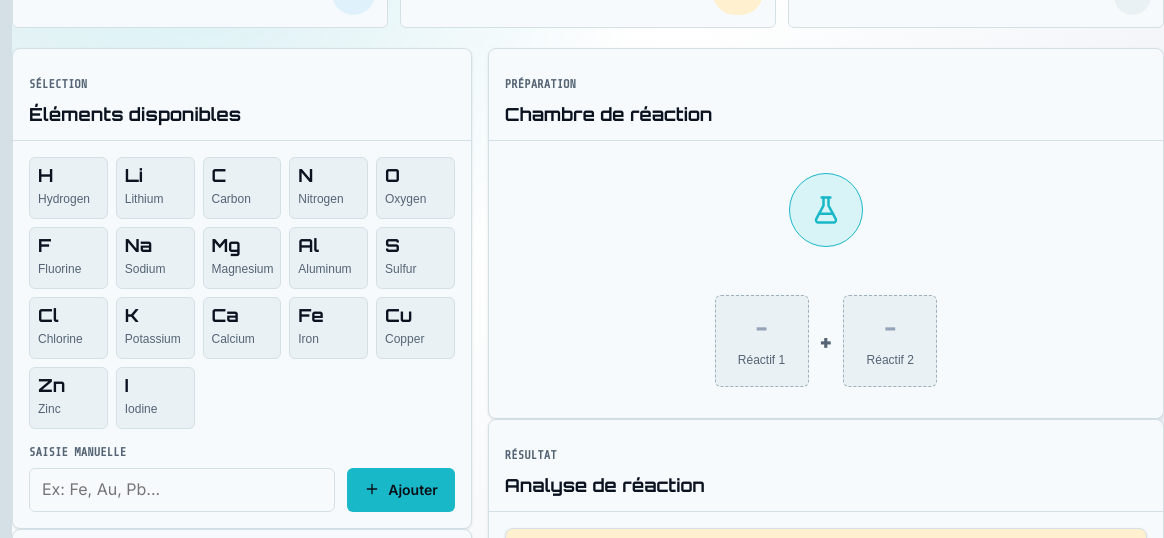
Test: FusionCore › renders the H + O -> H2O equation as safe JSX with real <sub> subscripts (no dangerouslySetInnerHTML)
This screenshot has width=1164, height=538.
Click the button "H Hydrogen" at (68, 188), box x1=29 y1=157 x2=108 y2=219
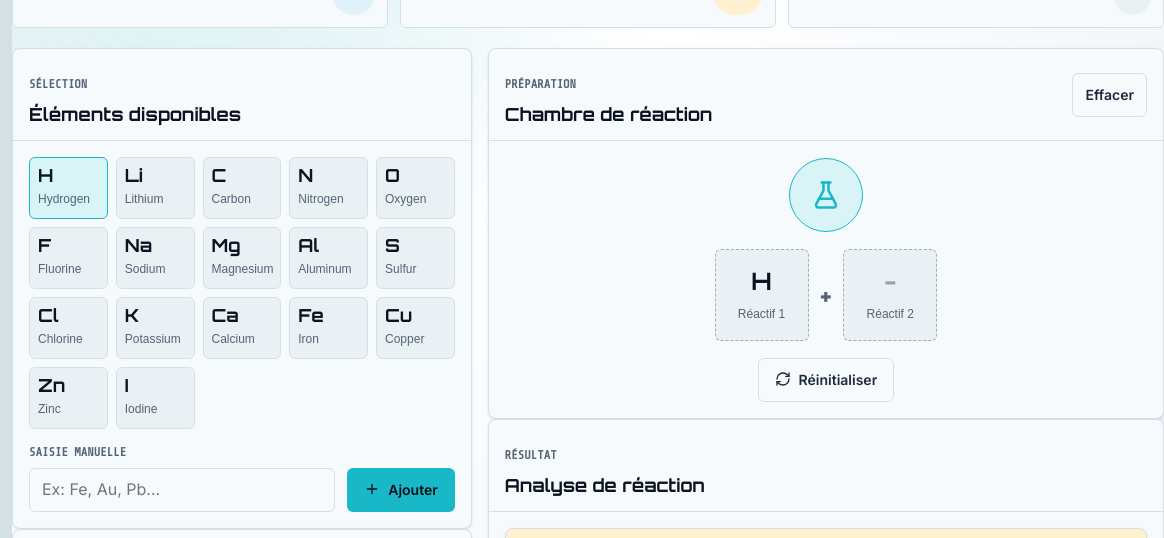
Click the button "O Oxygen" at (415, 188), box x1=376 y1=157 x2=455 y2=219
(page scrolled)
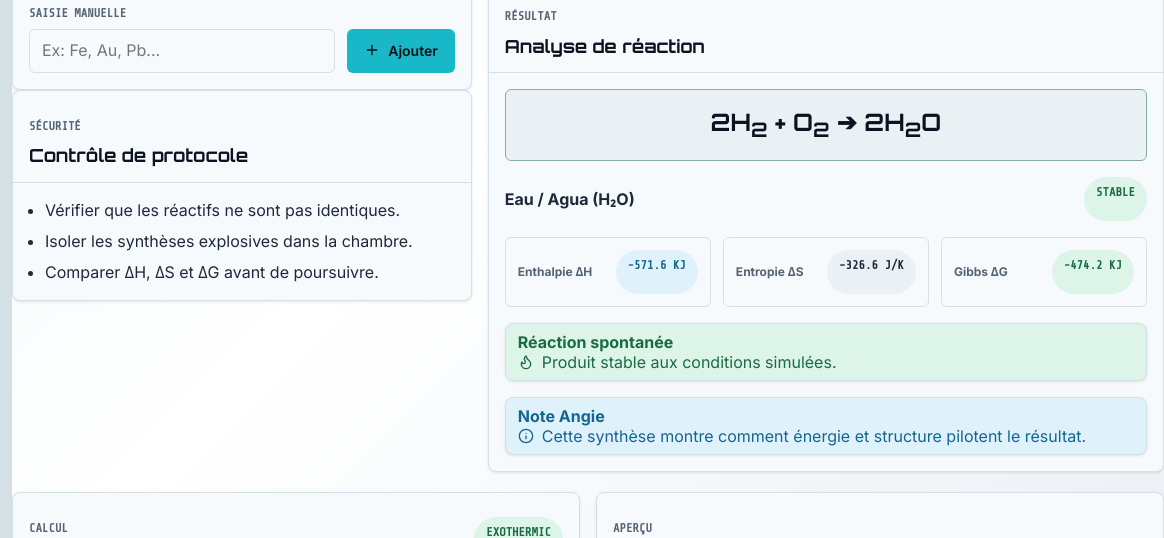
Result: the 2nd text "2" is shown at x1=751 y1=117 x2=768 y2=142
Result: the text "Eau / Agua (H₂O)" is shown at x1=505 y1=188 x2=635 y2=210
